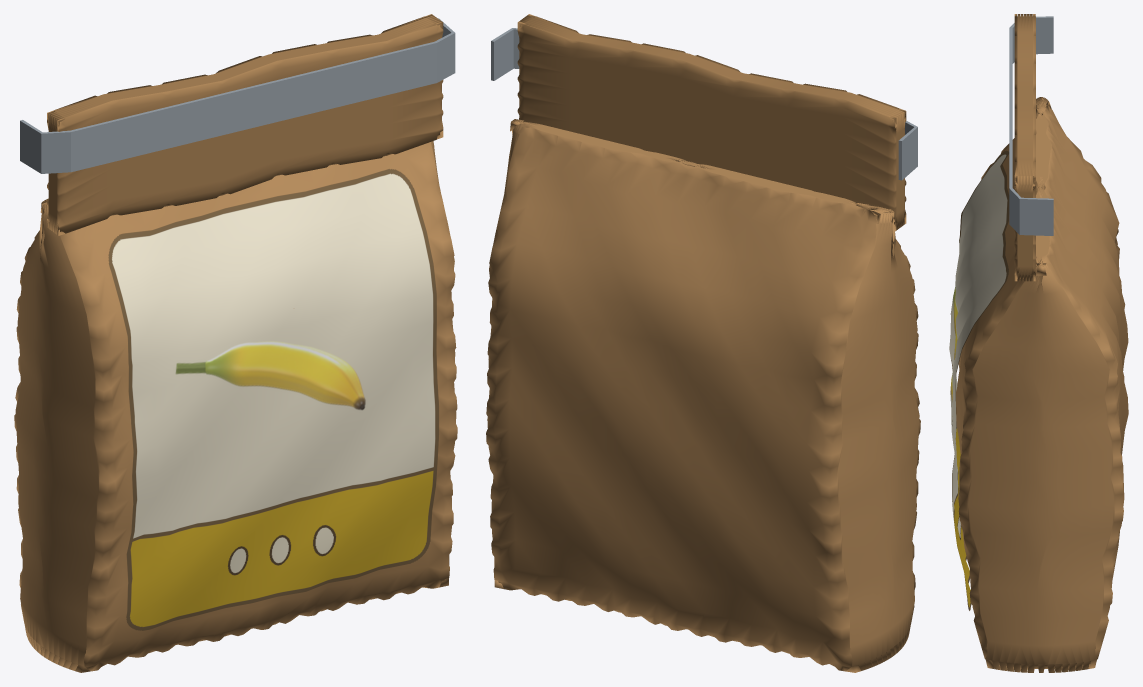
Rendered from banana_seed.glb.
The picture shows the model from 3 angles, left to right: view 1: azimuth 30°, elevation 25°; view 2: azimuth 150°, elevation 25°; view 3: azimuth 270°, elevation 25°; orthographic projection. The views are drawn at different scales.
Visible parts, largest first — view 1: BananaSeed_Label, BananaSeed_Body, BananaSeed_Fold, BananaSeed_Tie; view 2: BananaSeed_Body, BananaSeed_Fold, BananaSeed_Tie; view 3: BananaSeed_Body, BananaSeed_Label, BananaSeed_Fold, BananaSeed_Tie.
Part boxes in pixels (box(x1,y1,x2,y2)): BananaSeed_Label: box(108, 169, 438, 630); BananaSeed_Body: box(14, 141, 457, 672); BananaSeed_Fold: box(47, 14, 443, 235); BananaSeed_Tie: box(20, 18, 455, 173); BananaSeed_Body: box(486, 119, 920, 672); BananaSeed_Fold: box(517, 14, 906, 231); BananaSeed_Tie: box(491, 28, 917, 180); BananaSeed_Body: box(956, 97, 1128, 672); BananaSeed_Label: box(949, 150, 1009, 610); BananaSeed_Fold: box(1014, 14, 1035, 281); BananaSeed_Tie: box(1009, 16, 1053, 235).
Size of the model in its own units: 0.0917 by 0.1152 by 0.0378.
Materials: 4 (1 with a texture image).
